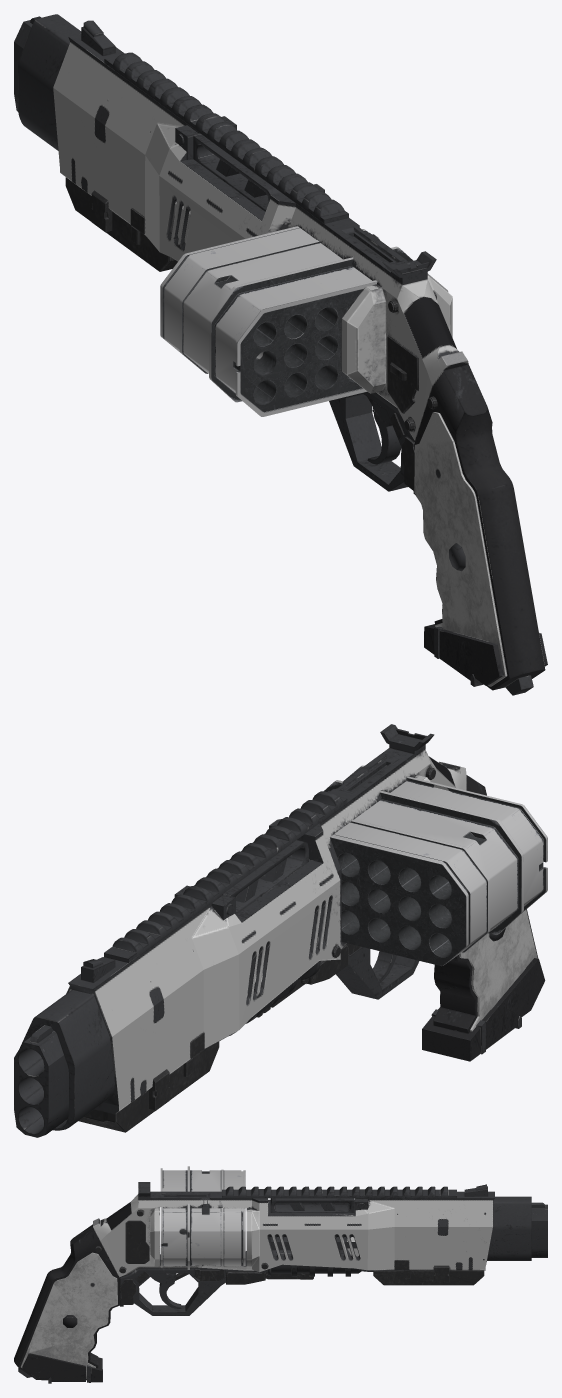
3 views of the same model, one above another, from view 1: azimuth 30°, elevation 25°; view 2: azimuth 150°, elevation 25°; view 3: azimuth 270°, elevation 25° (orthographic). The views are drawn at different scales.
Parts seen in each view (by area): view 1: LP_Revolver_0, LP_Magazine_1; view 2: LP_Revolver_0, LP_Magazine_1; view 3: LP_Revolver_0, LP_Magazine_1.
Boxes of the visible parts, x1,y1,x2,y2 form: LP_Revolver_0: (14,14,547,695); LP_Magazine_1: (160,226,448,416); LP_Revolver_0: (14,724,545,1137); LP_Magazine_1: (324,765,547,966); LP_Revolver_0: (14,1182,547,1383); LP_Magazine_1: (160,1166,245,1269).
Size of the model in its own units: 10.56 by 17.04 by 42.95.
Materials: 3 (3 with a texture image).
